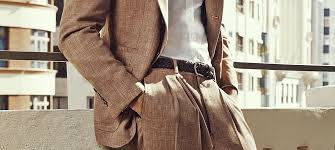F_belt: (141, 52, 225, 85)
